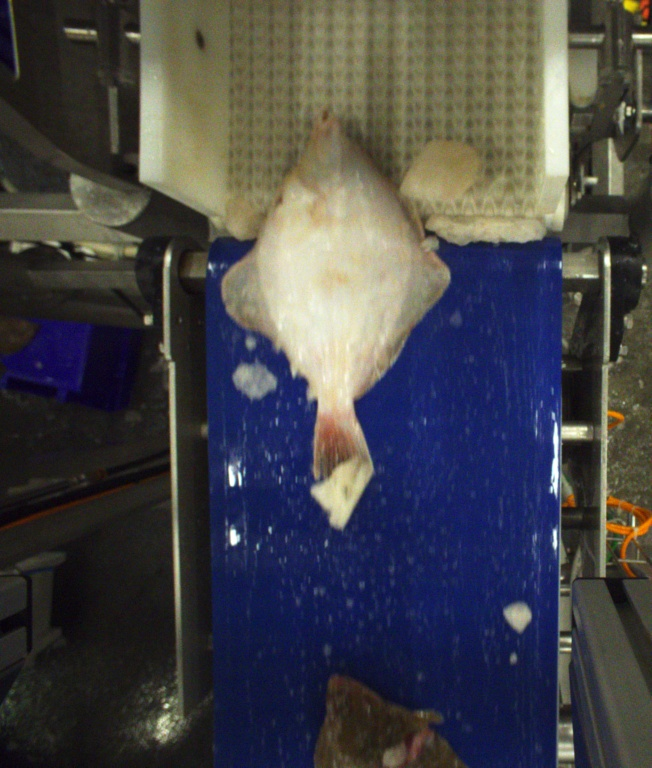PLE: (221, 102, 452, 487)
